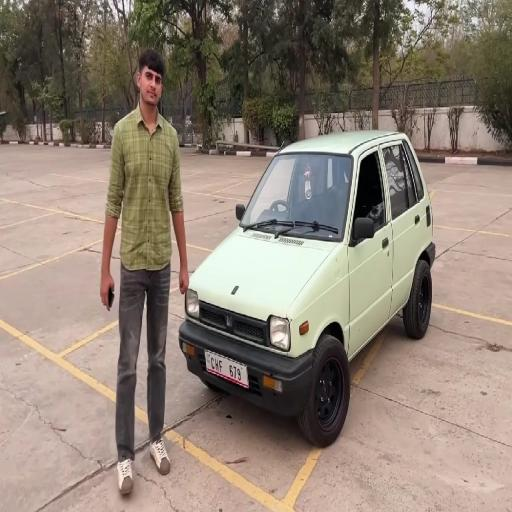License: (202, 344, 256, 396)
